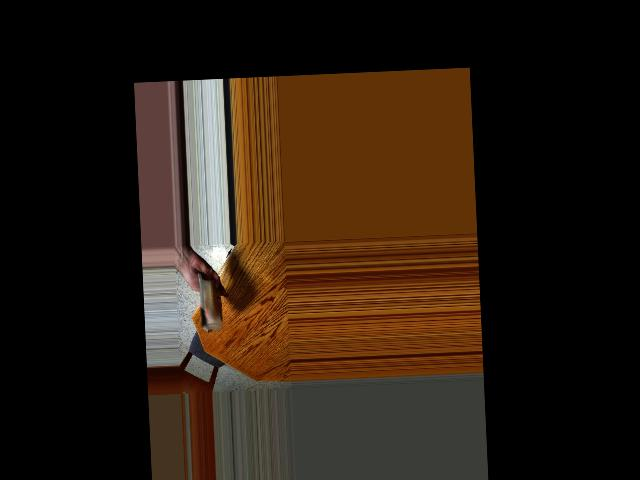cheese: (187, 276, 224, 328)
